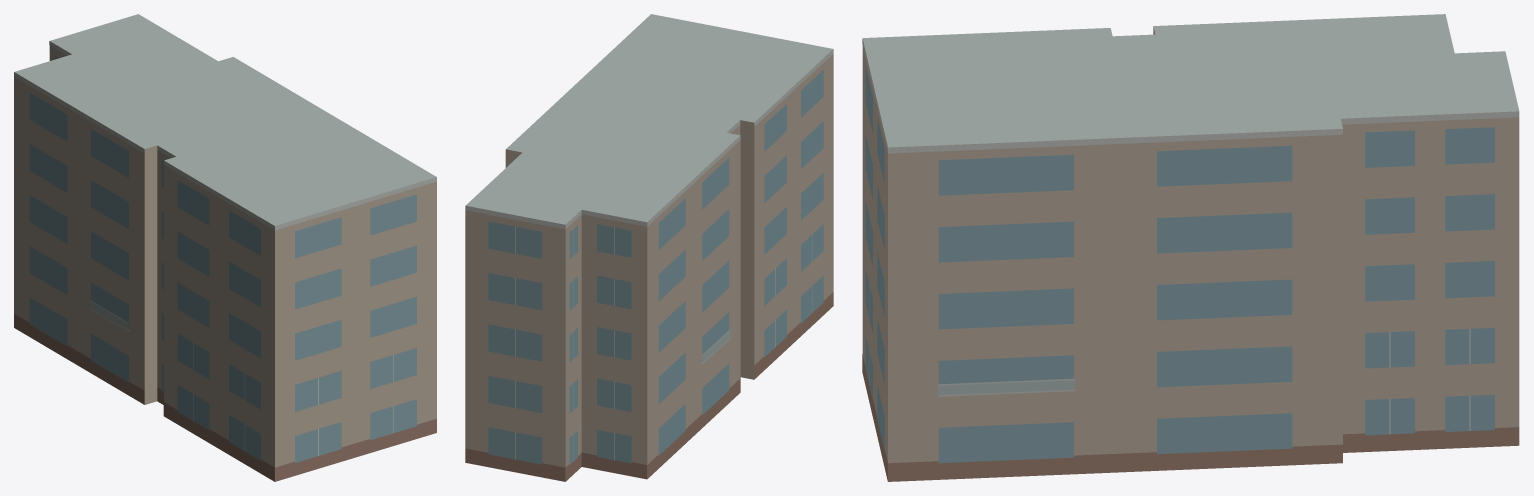
File: survey-upis-33023426.glb
3 renders of one model, left to right at view 1: azimuth 30°, elevation 25°; view 2: azimuth 150°, elevation 25°; view 3: azimuth 270°, elevation 25°, orthographic. The views are drawn at different scales.
Parts seen in each view (by area): view 1: survey-upis-33023426.tmp; view 2: survey-upis-33023426.tmp; view 3: survey-upis-33023426.tmp.
Part boxes in pixels (x1=…): survey-upis-33023426.tmp: x1=14, y1=14, x2=436, y2=481; survey-upis-33023426.tmp: x1=465, y1=14, x2=833, y2=481; survey-upis-33023426.tmp: x1=862, y1=14, x2=1519, y2=481.
Size of the model in its own units: 11.83 by 13.8 by 24.58.
